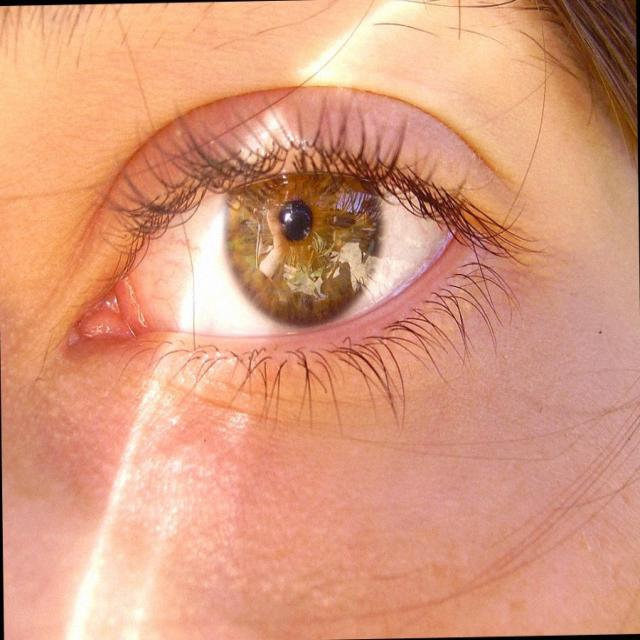Healthy-Eye: (62, 129, 460, 450)
